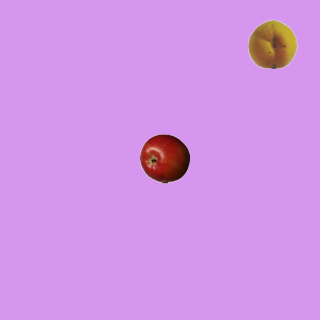Apple Braeburn: (139, 133, 189, 183)
Peach 2: (247, 18, 297, 68)
